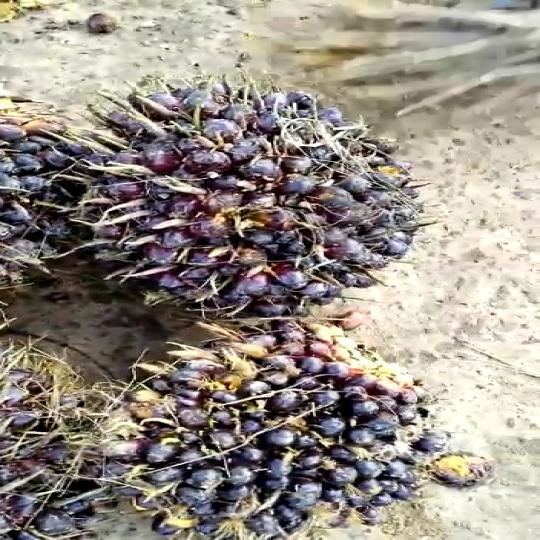mentah: (68, 73, 456, 322), (113, 338, 494, 536)
